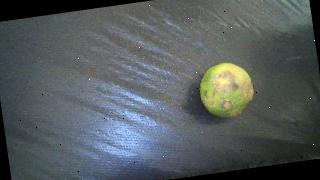DESECHO: (196, 60, 257, 121)
